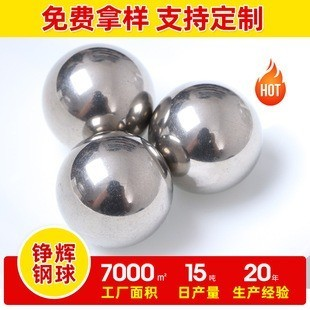ironball: (55, 130, 173, 248), (147, 81, 262, 194), (41, 44, 153, 149)
